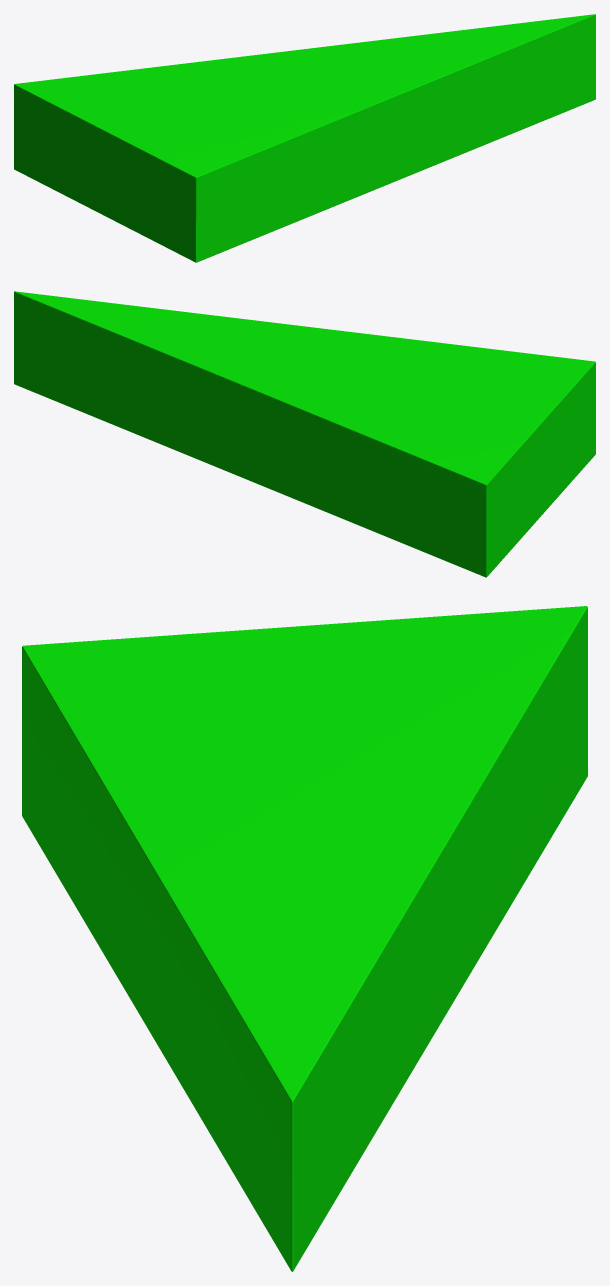
File: Obstacle_05.fbx
The picture shows the model from 3 angles, top to bottom: view 1: azimuth 30°, elevation 25°; view 2: azimuth 150°, elevation 25°; view 3: azimuth 270°, elevation 25°; orthographic projection. The views are drawn at different scales.
Parts seen in each view (by area): view 1: Obstacle_05; view 2: Obstacle_05; view 3: Obstacle_05.
Part boxes in pixels (bbox=[...]): Obstacle_05: bbox=[14, 14, 595, 262]; Obstacle_05: bbox=[14, 291, 595, 577]; Obstacle_05: bbox=[22, 606, 587, 1271].
Bounding box in the file's own units: 6.21 × 1 × 2.99.
